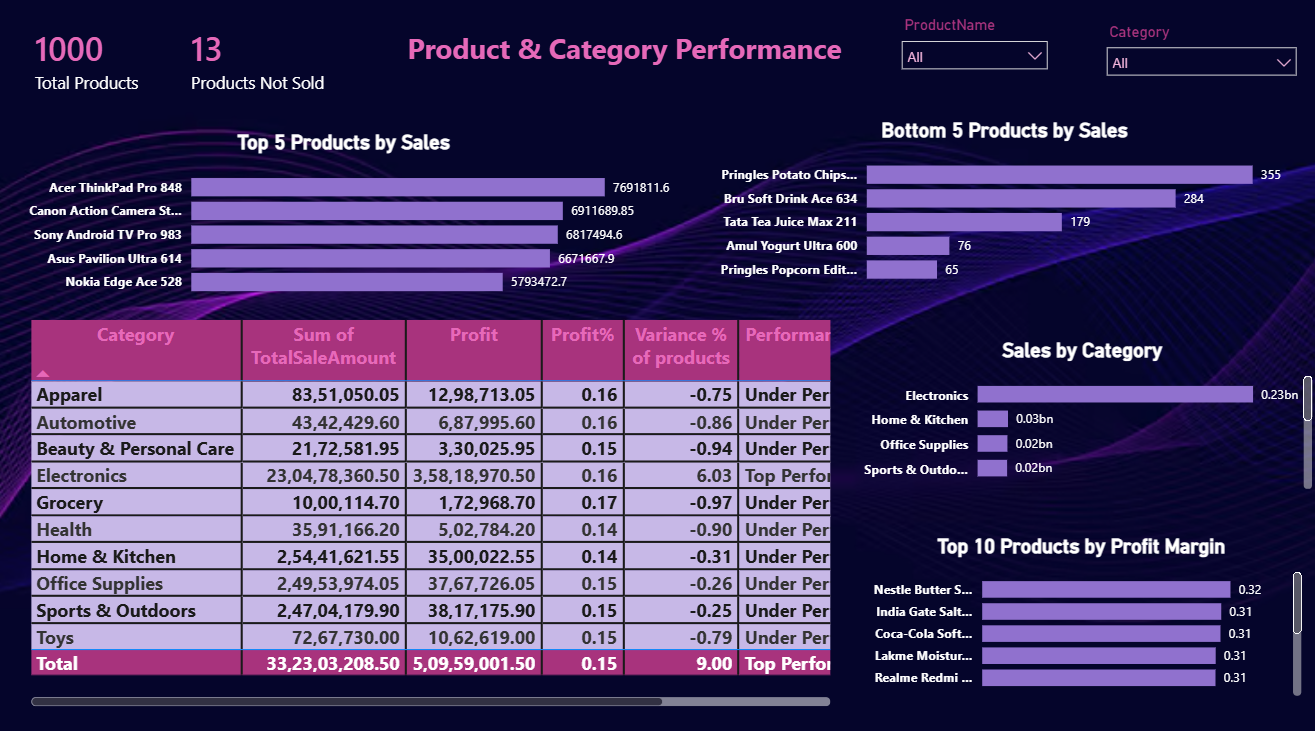

The page's visual inventory and layout, read from the dashboard file:
{"tool":"powerbi","page":{"name":"Product & Category","canvas":[1280,720],"ordinal":3},"visuals":[{"type":"barChart","title":"Top 5 Products by Sales","fields":{"Category":["Dim_Product.ProductName"],"Y":["Sum(Fact_Sales.TotalSaleAmount)"]},"box":[16.2,136.2,640,168.8],"z":0},{"type":"cardVisual","fields":{"Data":["Measure Table.Total Products"]},"box":[8.6,11.4,181.4,112.9],"z":1000},{"type":"cardVisual","fields":{"Data":["Measure Table.Products Not Sold"]},"box":[158.8,16.2,222.5,102.5],"z":2000},{"type":"textbox","box":[336.2,32.5,540,53.8],"z":3000},{"type":"barChart","title":"Top 10 Products by Profit Margin","fields":{"Category":["Dim_Product.ProductName"],"Y":["Measure Table.Profit%"]},"box":[830,526.2,435,160],"z":4000},{"type":"tableEx","title":"Category Performance","fields":{"Values":["Dim_Product.Category","Sum(Fact_Sales.TotalSaleAmount)","Measure Table.Profit","Measure Table.Profit%","Measure Table.Variance % of products","Measure Table.Performance of ProductCategories"]},"box":[27.5,313.8,782.5,382.5],"z":5000},{"type":"barChart","title":"Bottom 5 Products by Sales","fields":{"Category":["Dim_Product.ProductName"],"Y":["Sum(Fact_Sales.TotalSaleAmount)"]},"box":[681.2,123.8,583.8,168.8],"z":6000},{"type":"slicer","fields":{"Values":["Dim_Product.ProductName"]},"box":[863.8,20,161.2,80],"z":7000},{"type":"slicer","fields":{"Values":["Dim_Product.Category"]},"box":[1061.2,26.2,203.8,67.5],"z":8000},{"type":"barChart","title":"Sales by Category","fields":{"Category":["Dim_Product.Category"],"Y":["Sum(Fact_Sales.TotalSaleAmount)"]},"box":[821.2,336.2,453.8,150],"z":9000}]}

Visuals, with their boxes in screenshot pixels (x1, y1, x2, y2), scaled from the page's 1280x720 canvas onto the 1315x731 screenshot:
"Top 5 Products by Sales" barChart: (17, 138, 674, 310)
cardVisual - Measure Table.Total Products: (9, 12, 195, 126)
cardVisual - Measure Table.Products Not Sold: (163, 16, 392, 121)
textbox: (345, 33, 900, 88)
"Top 10 Products by Profit Margin" barChart: (853, 534, 1300, 697)
"Category Performance" tableEx: (28, 319, 832, 707)
"Bottom 5 Products by Sales" barChart: (700, 126, 1300, 297)
slicer - Dim_Product.ProductName: (887, 20, 1053, 102)
slicer - Dim_Product.Category: (1090, 27, 1300, 95)
"Sales by Category" barChart: (844, 341, 1310, 494)
